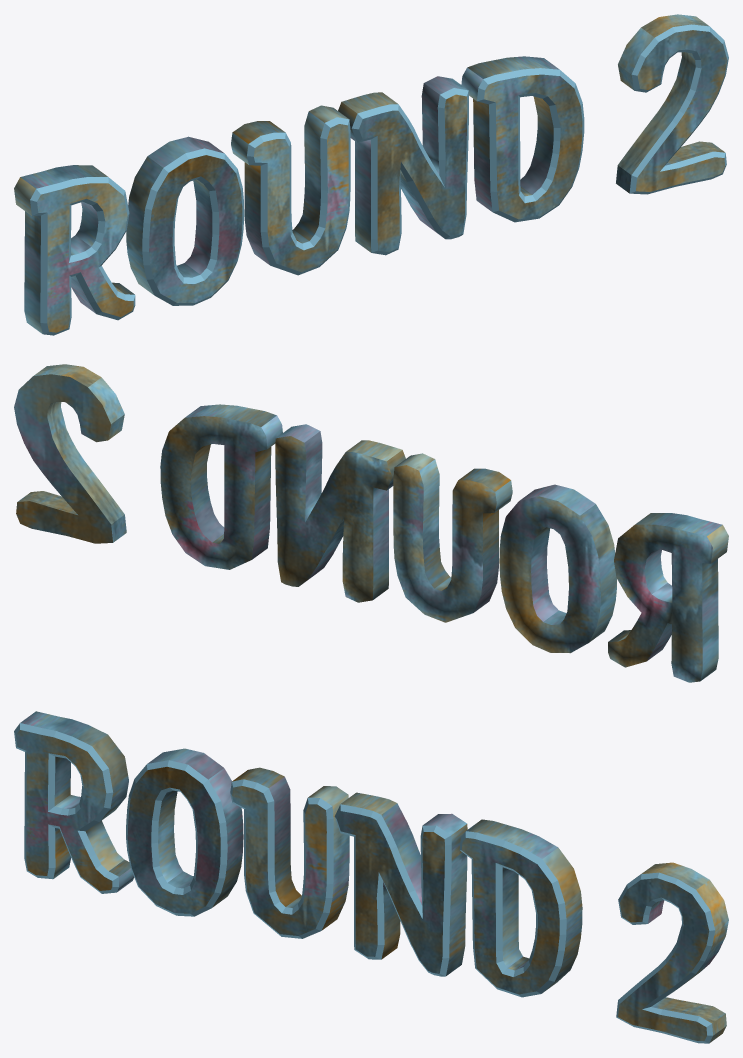
File: Round02.glb
3 renders of one model, top to bottom at view 1: azimuth 30°, elevation 25°; view 2: azimuth 150°, elevation 25°; view 3: azimuth 330°, elevation 25°, orthographic.
Parts seen in each view (by area): view 1: Round02; view 2: Round02; view 3: Round02.
Boxes of the visible parts, x1,y1,x2,y2 form: Round02: [14, 14, 728, 335]; Round02: [14, 364, 728, 682]; Round02: [14, 711, 728, 1043].
Bounding box in the file's own units: 8.75 × 1.93 × 0.4002.
1 material, 1 textured.
